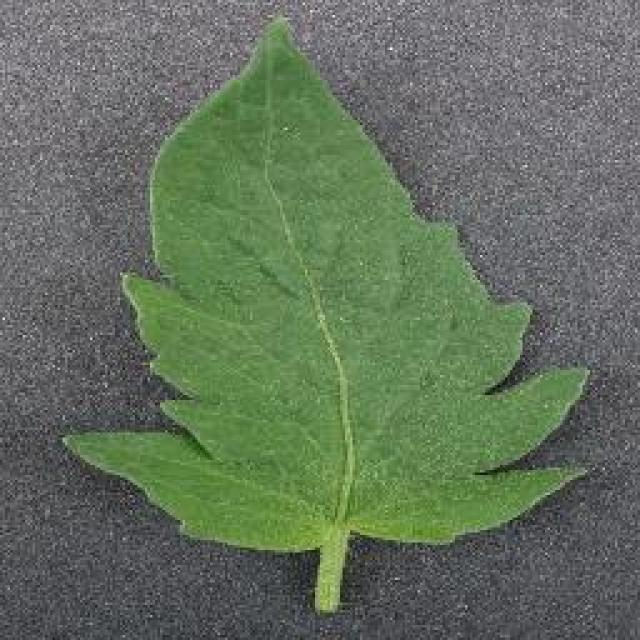Tomato healthy leaf: (64, 14, 601, 611)
